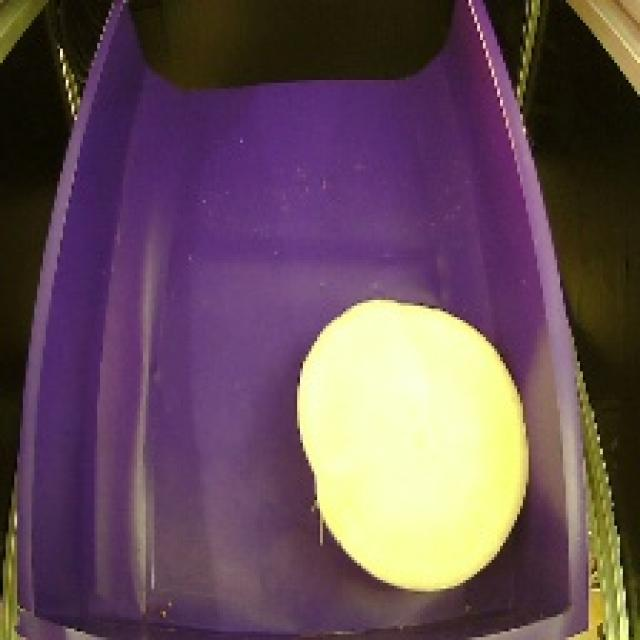white_radish: (278, 282, 547, 611)
